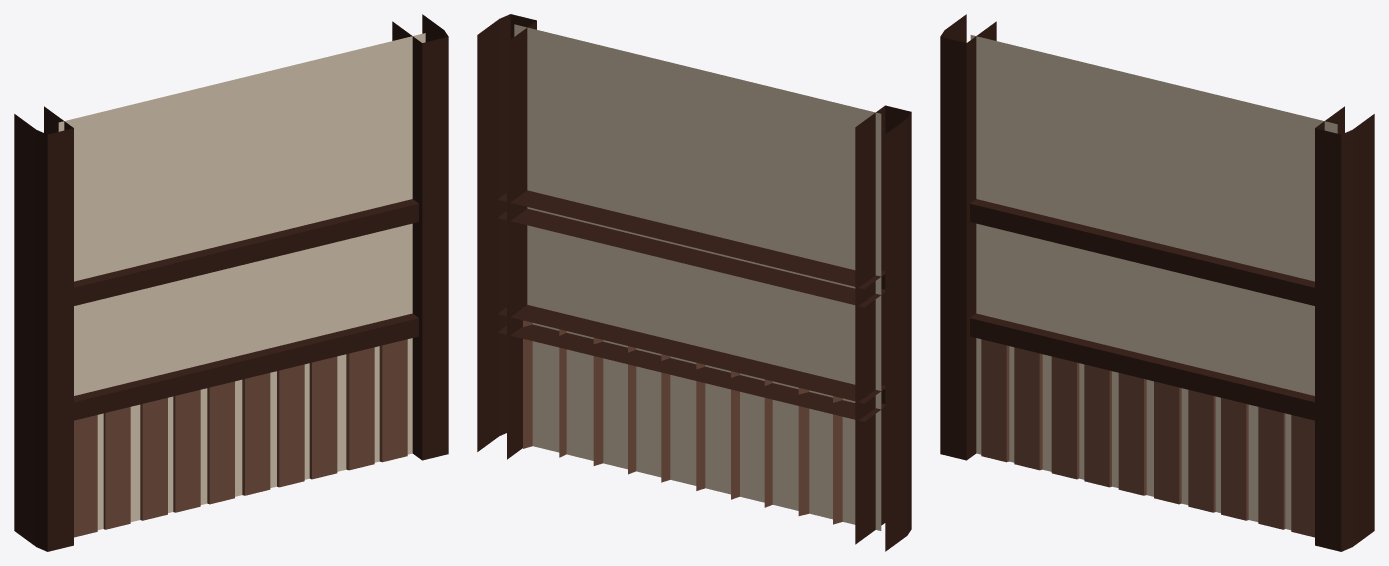
File: BuildingWall_6_2  Asia.fbx
3 views of the same model, side by side, from view 1: azimuth 30°, elevation 25°; view 2: azimuth 150°, elevation 25°; view 3: azimuth 330°, elevation 25° (orthographic).
Visible parts, largest first — view 1: BuildingWall_6_2; view 2: BuildingWall_6_2; view 3: BuildingWall_6_2.
Boxes of the visible parts, x1,y1,x2,y2 form: BuildingWall_6_2: (14,14,448,551); BuildingWall_6_2: (477,14,911,551); BuildingWall_6_2: (940,14,1374,551).
Bounding box in the file's own units: 2 × 1.96 × 0.254.
